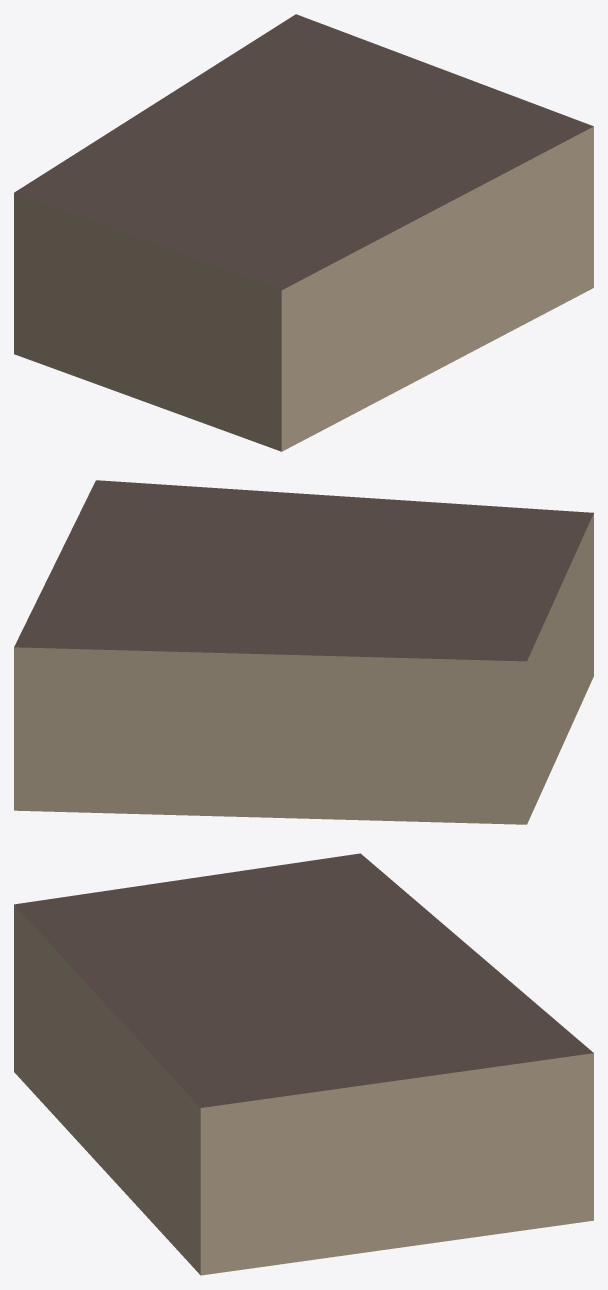
The picture shows the model from 3 angles, top to bottom: view 1: azimuth 30°, elevation 25°; view 2: azimuth 150°, elevation 25°; view 3: azimuth 270°, elevation 25°; orthographic projection. The views are drawn at different scales.
Visible parts, largest first — view 1: HP-w1512530029; view 2: HP-w1512530029; view 3: HP-w1512530029.
Boxes of the visible parts, box(x1,y1,x2,y2) form: HP-w1512530029: box(14, 14, 593, 451); HP-w1512530029: box(14, 480, 593, 824); HP-w1512530029: box(14, 853, 593, 1275).
Size of the model in its own units: 29.34 by 9 by 28.24.
